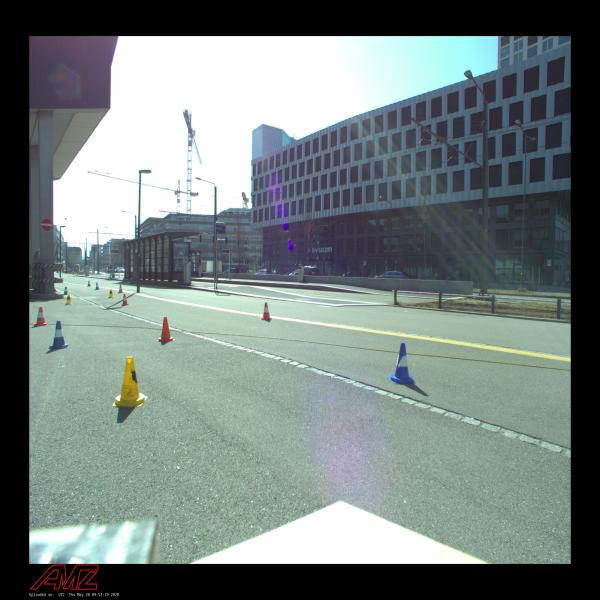blue_cone: (387, 343, 416, 384), (49, 321, 70, 349), (95, 282, 100, 290), (64, 286, 68, 294), (87, 280, 91, 286)
orange_cone: (156, 317, 176, 341), (32, 307, 49, 326), (260, 302, 274, 320), (121, 294, 129, 306), (118, 284, 124, 294)
yellow_cone: (112, 356, 147, 407), (64, 292, 73, 304), (108, 288, 115, 298)
